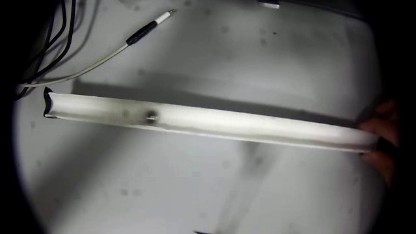gangzhu: (143, 108, 158, 121)
